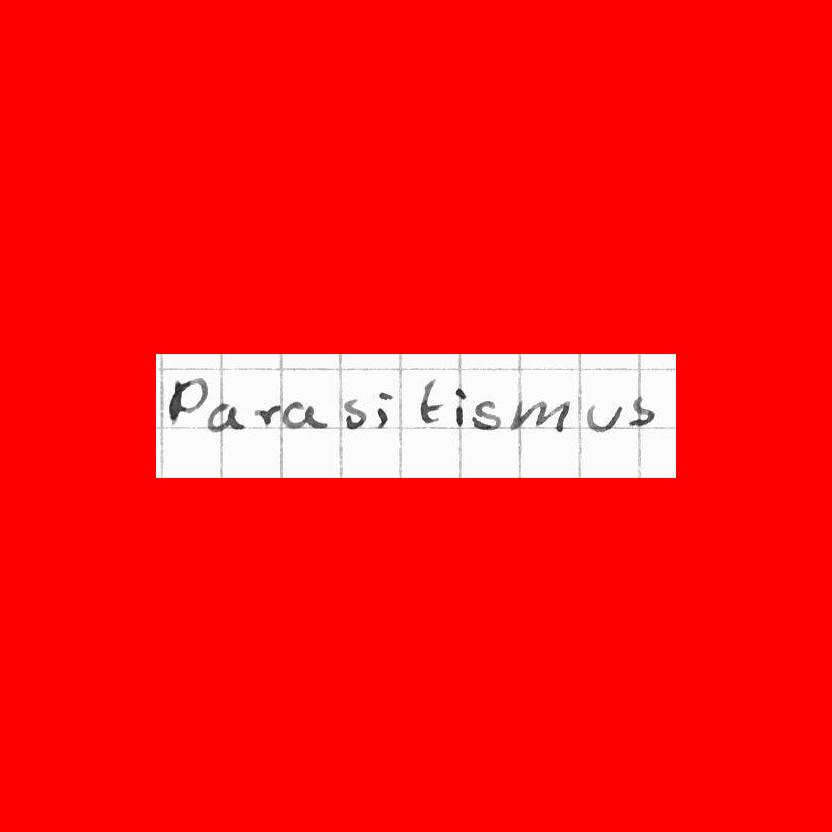Char: (506, 397, 571, 435), (166, 376, 208, 428), (280, 397, 330, 431), (416, 375, 447, 425), (582, 399, 625, 433), (207, 400, 246, 432), (471, 398, 503, 431), (627, 394, 656, 429), (251, 401, 283, 427), (342, 397, 368, 429), (376, 389, 396, 429), (452, 384, 470, 428)
